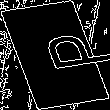P_W: (10, 31, 100, 79)
